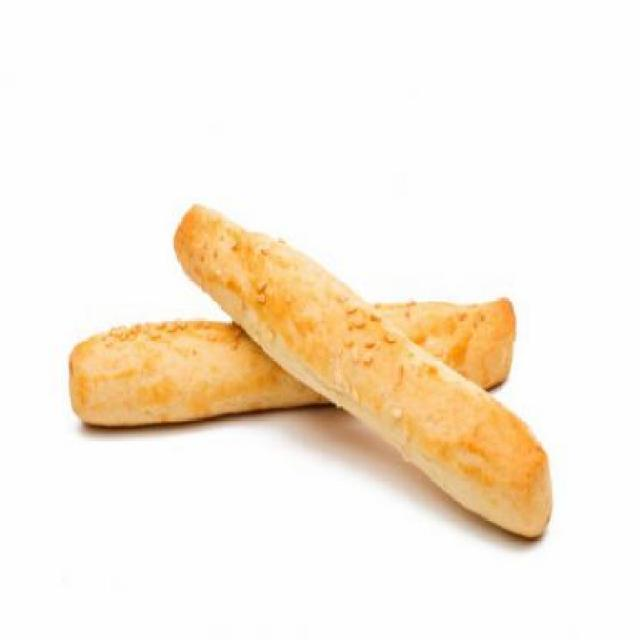Grissini: (166, 203, 554, 542)
